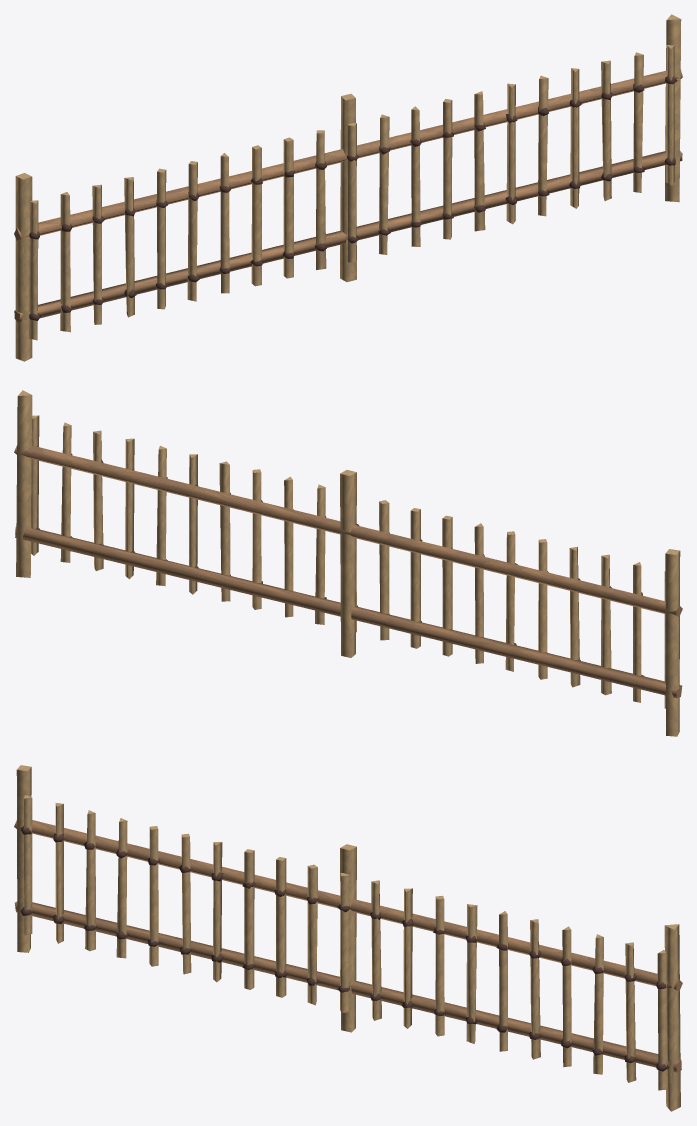
Rendered from fence.glb.
3 renders of one model, top to bottom at view 1: azimuth 30°, elevation 25°; view 2: azimuth 150°, elevation 25°; view 3: azimuth 330°, elevation 25°, orthographic.
Parts seen in each view (by area): view 1: fence; view 2: fence; view 3: fence.
Part boxes in pixels (<box>): fence: <box>14,14,682,361</box>; fence: <box>14,390,682,736</box>; fence: <box>14,765,682,1111</box>.
Size of the model in its own units: 4 by 1.05 by 0.1265.
1 material, 1 textured.
